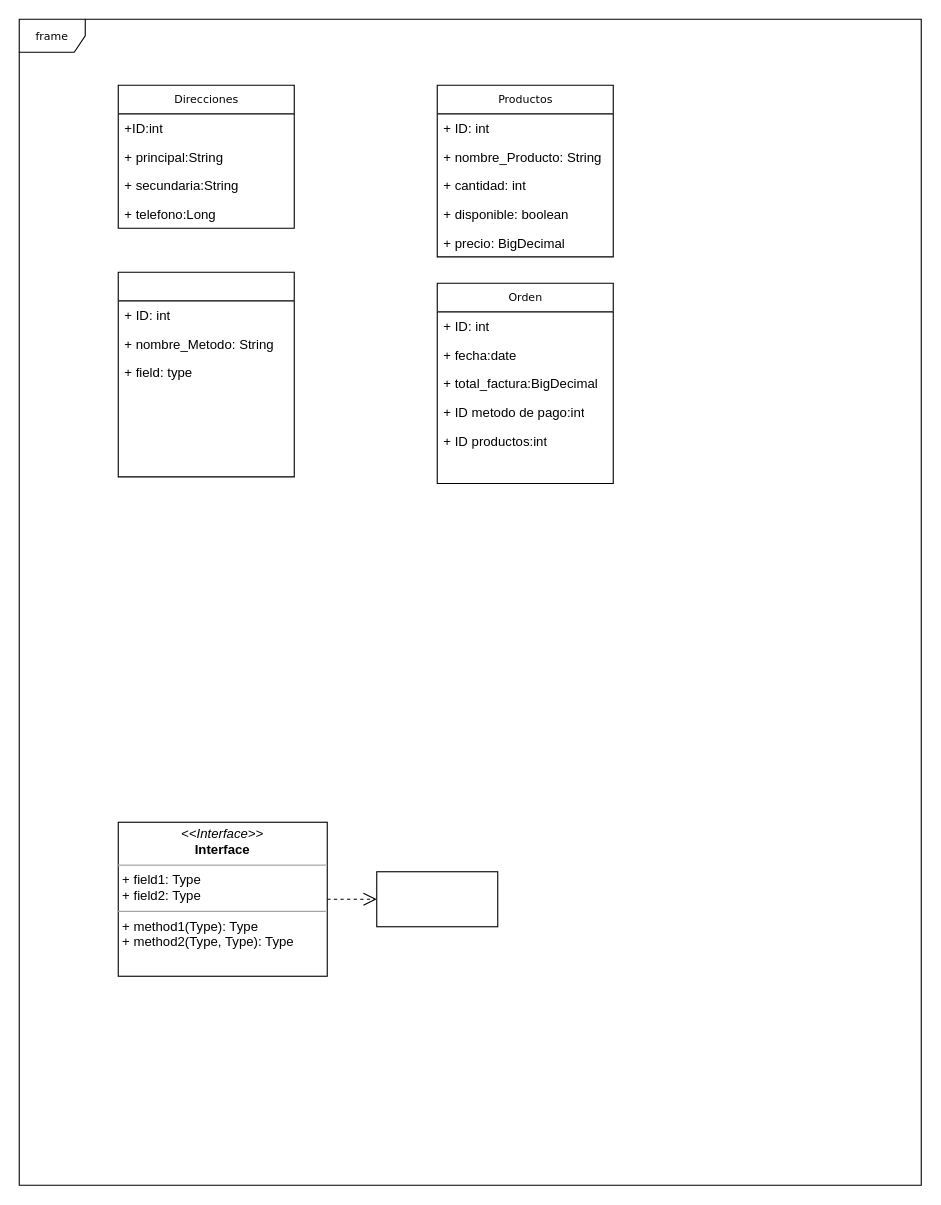
The diagram is 941 pixels wide and 1205 high, and some of its shapes have lost their labels. Each missing label, with the box of its shape:
Metodos de pago: (117, 271, 294, 477)
«interface» Name: (376, 871, 498, 927)
